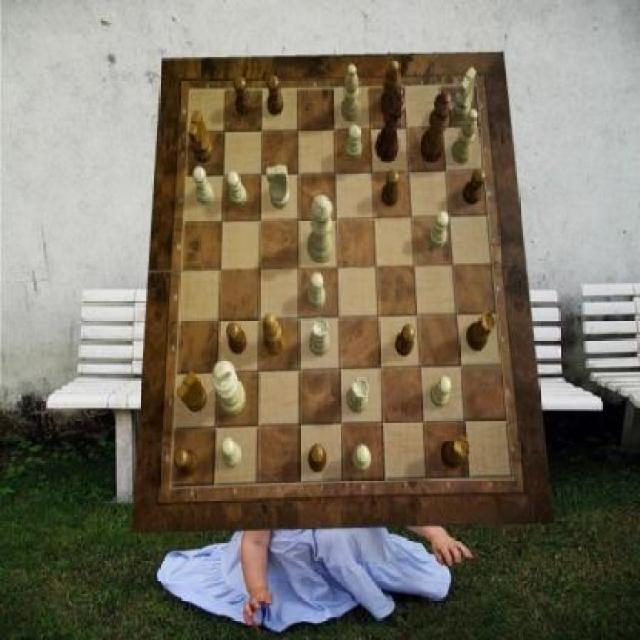bishop: (378, 60, 399, 118), (263, 314, 285, 356)
black-bishop: (376, 83, 406, 162)
black-king: (189, 110, 214, 164), (177, 371, 208, 412)
black-knight: (463, 170, 486, 206), (234, 77, 253, 117), (174, 449, 198, 477), (228, 321, 248, 354), (396, 325, 416, 357), (268, 77, 284, 117), (382, 170, 399, 206), (308, 445, 327, 472)
black-pawn: (418, 92, 454, 165)
black-queen: (466, 312, 496, 352), (440, 437, 471, 471)
black-rook: (452, 110, 478, 166), (342, 65, 361, 122)
white-bishop: (212, 360, 246, 416)
white-king: (452, 68, 477, 119), (266, 164, 290, 208)
white-knight: (194, 166, 214, 204), (428, 211, 448, 248), (228, 171, 248, 207), (431, 377, 452, 409), (222, 437, 242, 468), (308, 272, 325, 308), (346, 124, 363, 160), (354, 446, 371, 472)
white-pawn: (308, 197, 334, 265)
white-queen: (346, 378, 369, 414), (309, 317, 330, 355)
